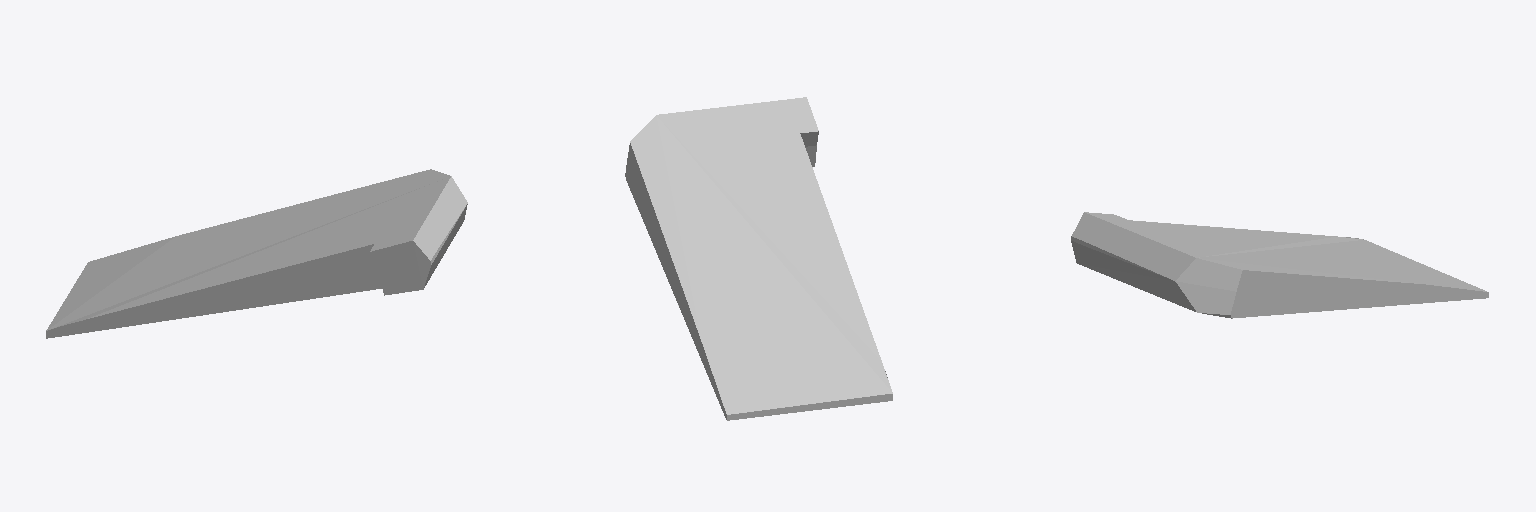
The model's file is li-fang-ti-.001_cell.094.obj.
The picture shows the model from 3 angles: view 1: azimuth 30°, elevation 25°; view 2: azimuth 150°, elevation 25°; view 3: azimuth 270°, elevation 25°; orthographic projection.
Visible parts, largest first — view 1: 立方体.001_cell.094; view 2: 立方体.001_cell.094; view 3: 立方体.001_cell.094.
Boxes of the visible parts, box(x1,y1,x2,y2) form: 立方体.001_cell.094: box(46, 169, 467, 338); 立方体.001_cell.094: box(625, 97, 892, 420); 立方体.001_cell.094: box(1071, 212, 1488, 318).
Bounding box in the file's own units: 0.6191 × 0.2581 × 0.6693.